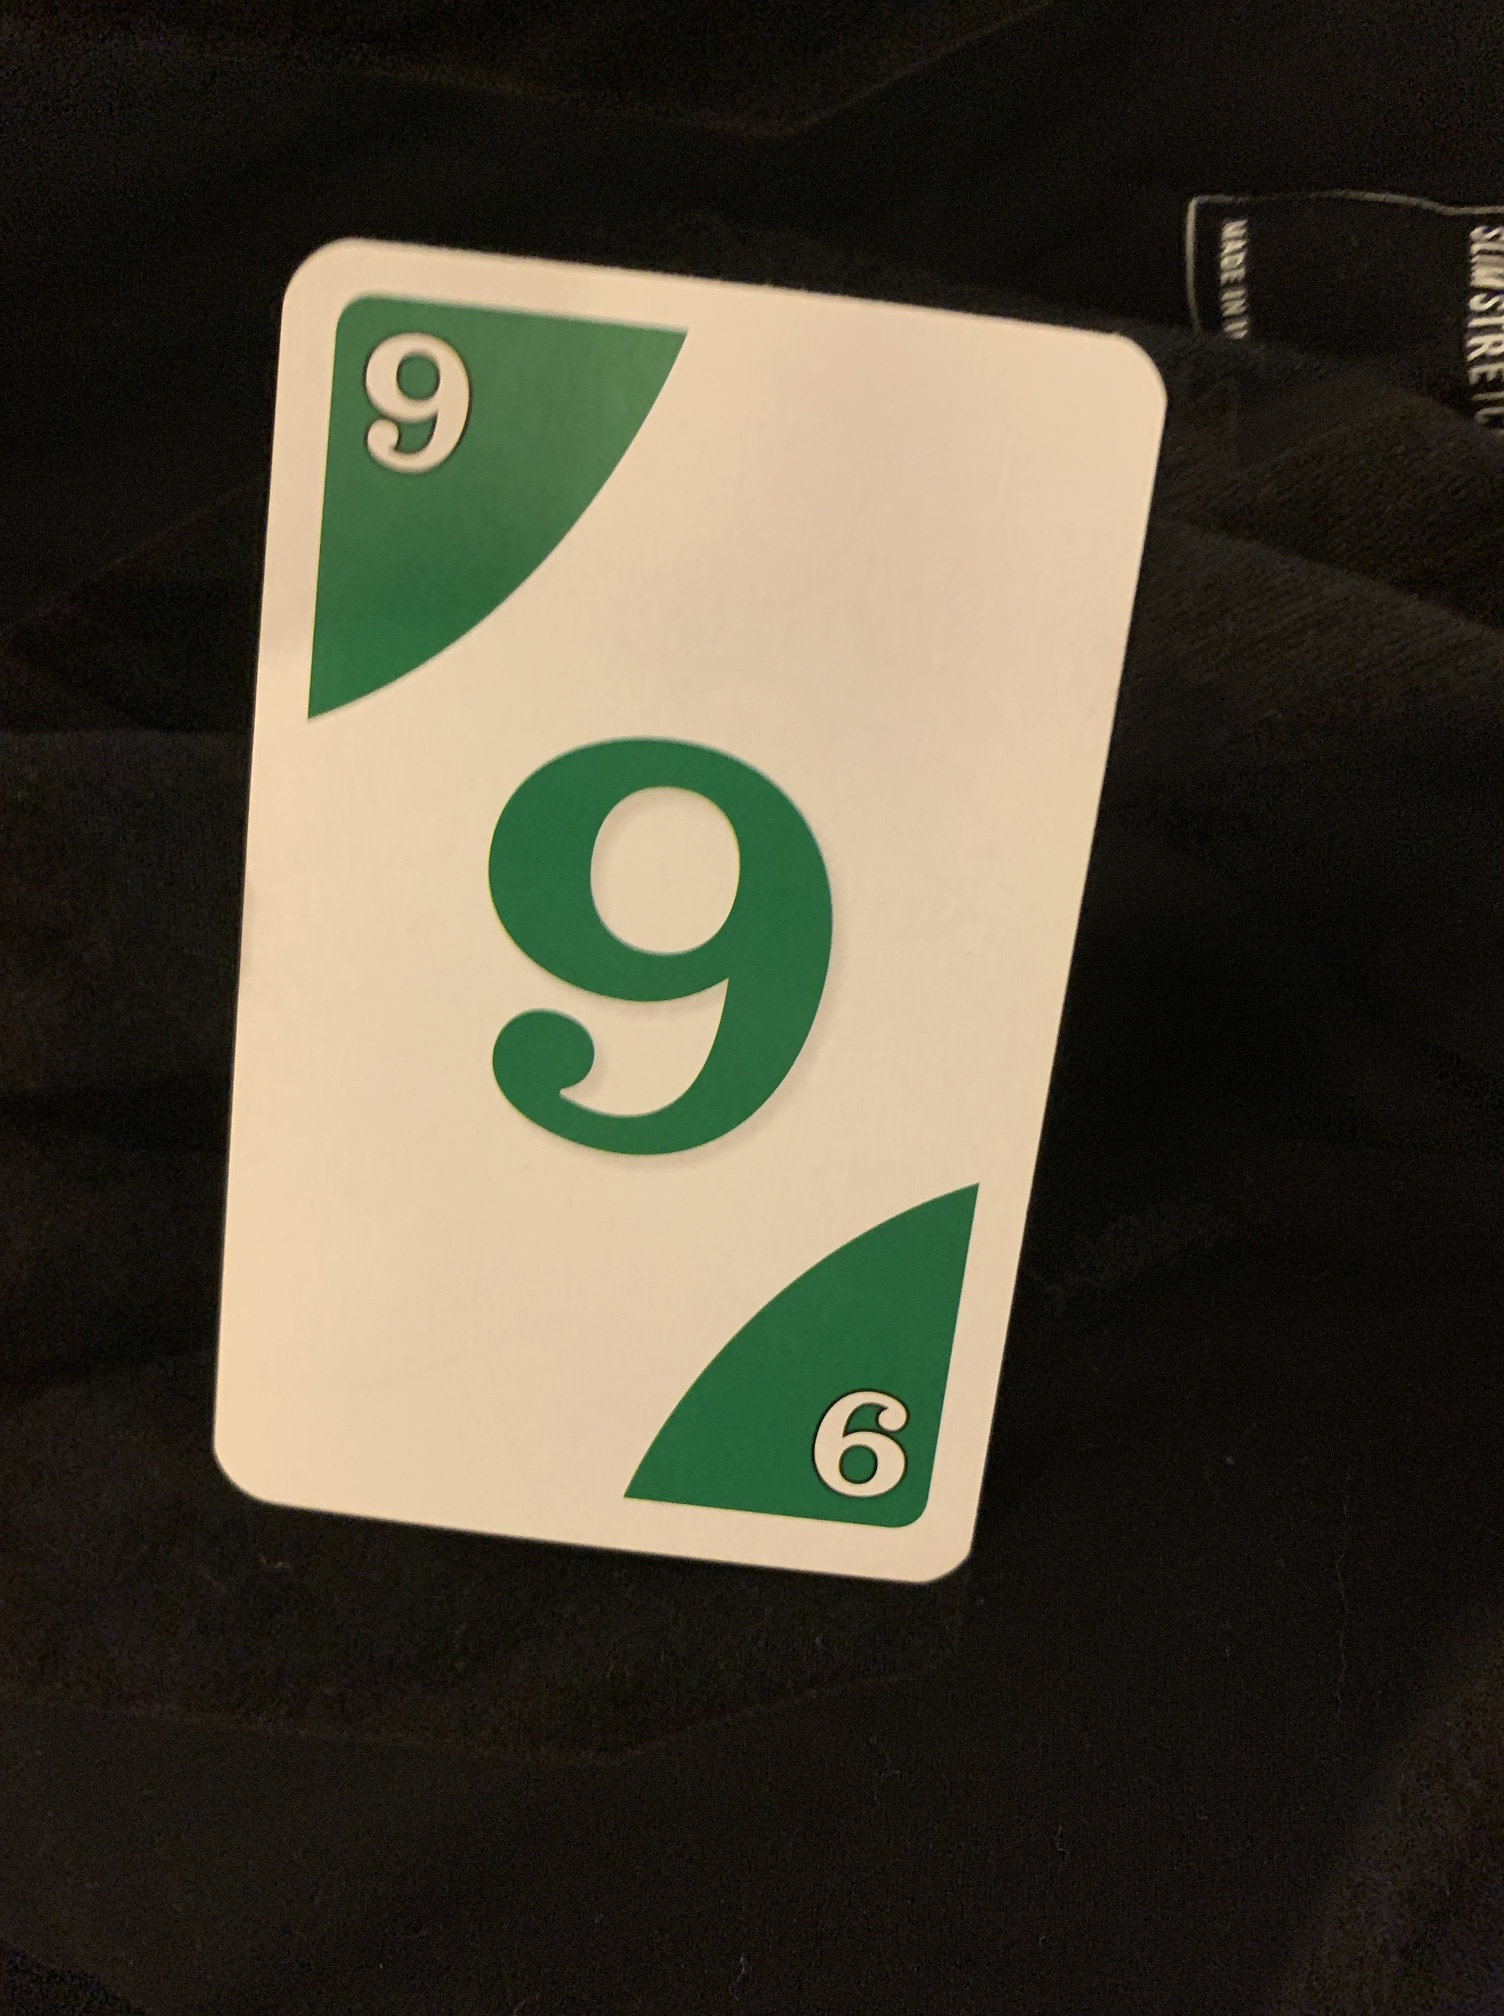nine: (197, 226, 1177, 1596)
